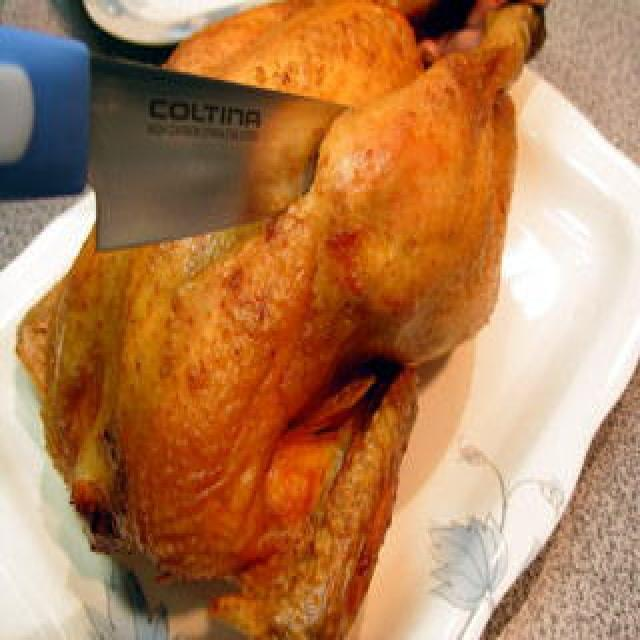Chicken: (102, 0, 532, 600)
